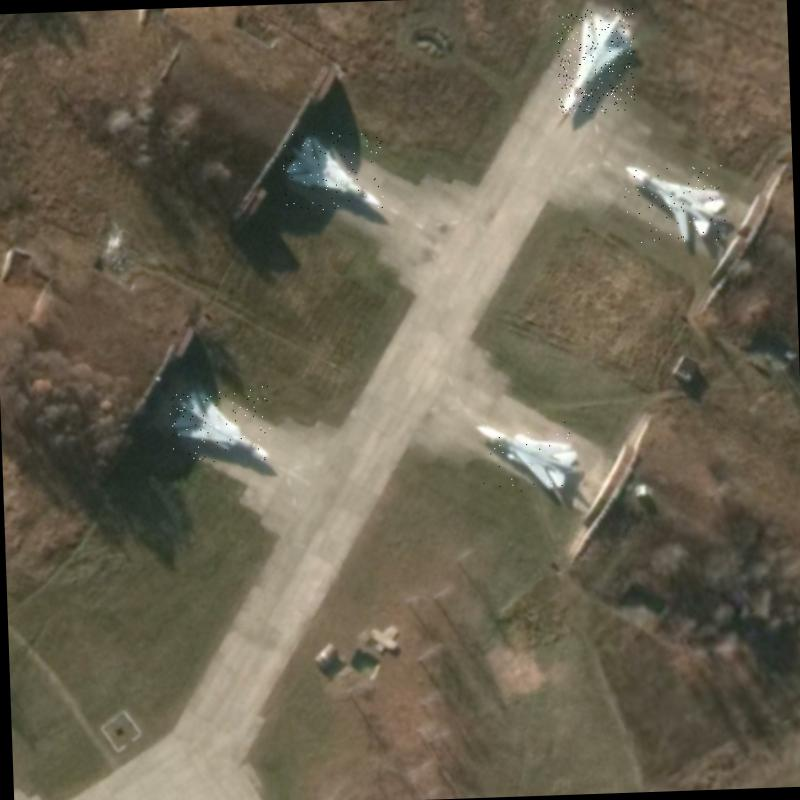A20: (622, 160, 726, 244), (556, 7, 636, 114), (282, 131, 384, 210), (473, 418, 579, 493), (168, 386, 271, 463)
